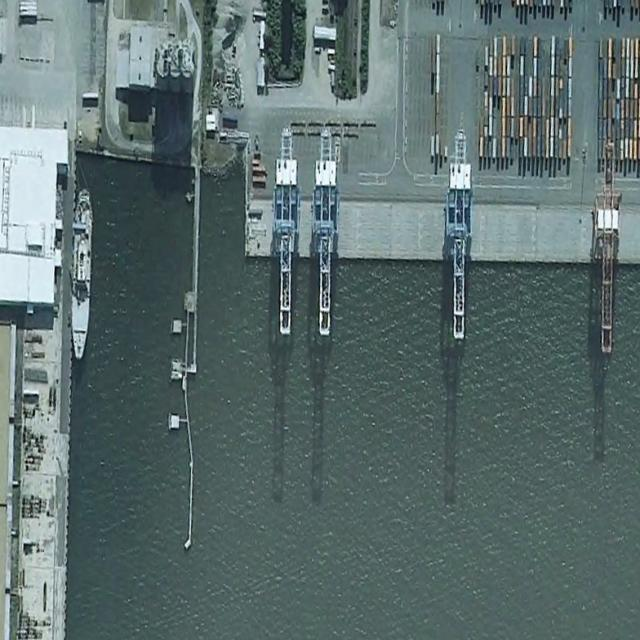Other Ship: (69, 186, 94, 363)
